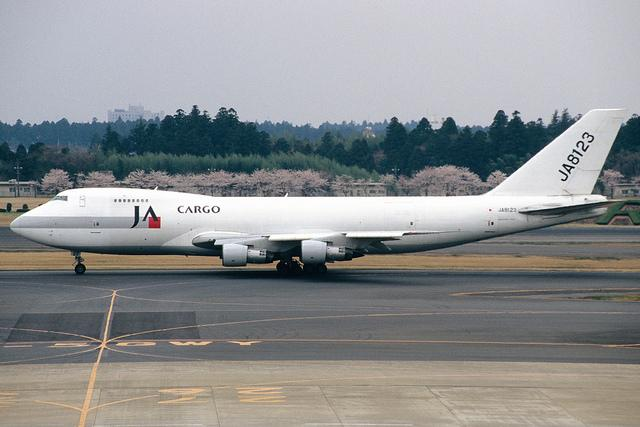airplane: (8, 106, 640, 280)
